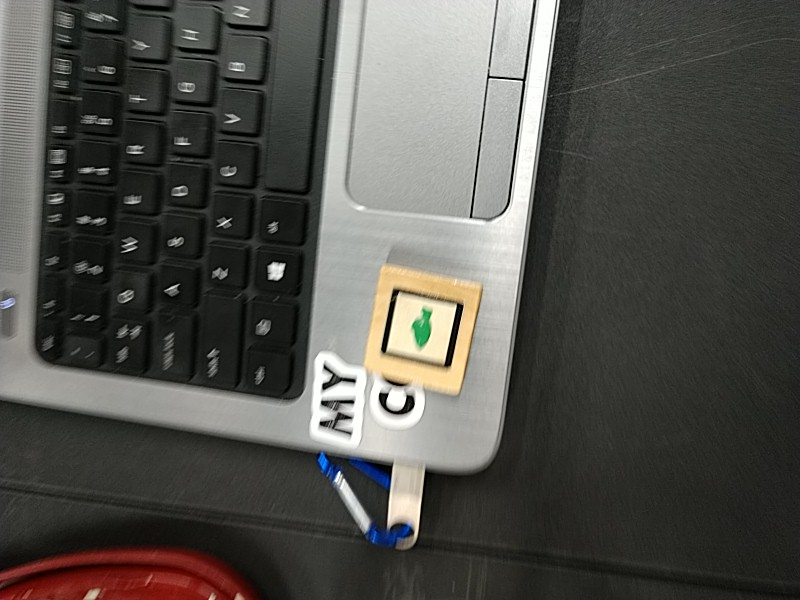Fish Tile: (382, 287, 464, 369)
